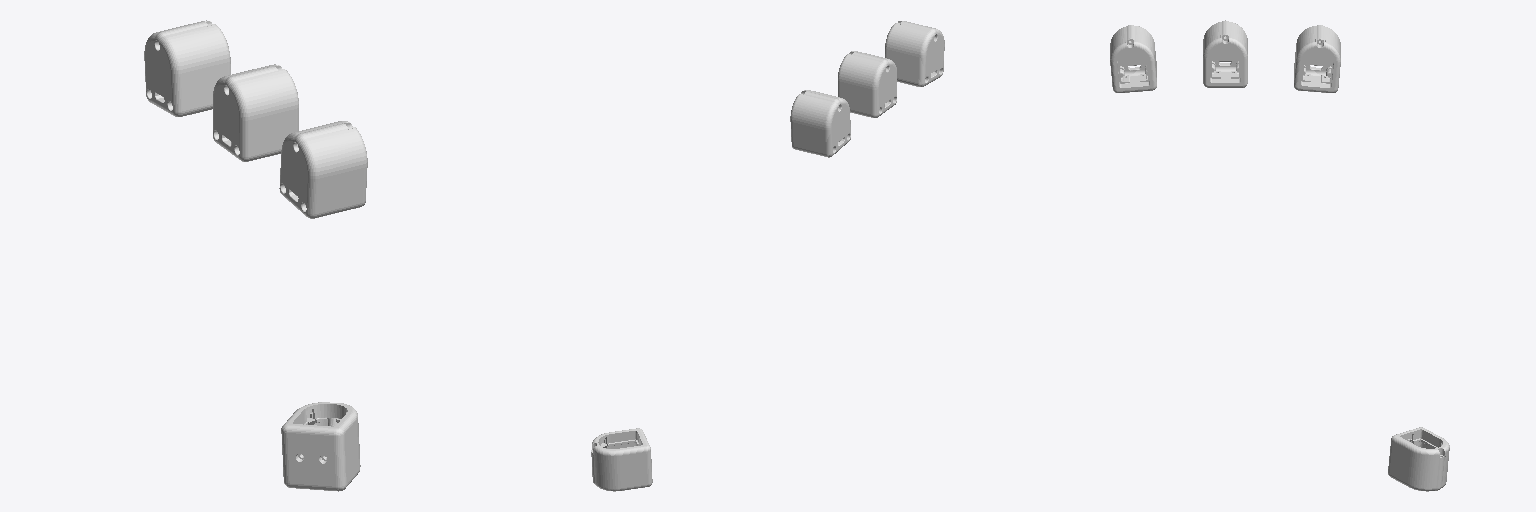
URDF robot description (allegro_hand_right):
<?xml version="1.0" ?>
<!-- =================================================================================== -->
<!-- |    This document was autogenerated by xacro from allegro_hand_description_right.xacro | -->
<!-- |    EDITING THIS FILE BY HAND IS NOT RECOMMENDED                                 | -->
<!-- =================================================================================== -->
<robot name="allegro_hand_right" xmlns:xacro="http://www.ros.org/wiki/xacro">
  <!-- ======================== BASE PARAMS ========================= -->
  <!-- ======================== FINGER PARAMS ======================== -->
  <!-- full height from joint to tip. when used,
    the radius of the finger tip sphere will be subtracted
    and one fixed link will be added for the tip. -->
  <!-- ========================= THUMB PARAMS ========================= -->
  <!-- ========================= LIMITS ========================= -->
  <!-- ============================================================================= -->
  <!-- PALM -->
  <link name="palm_link">
    <visual>
      <geometry>
        <mesh filename="meshes/base_link.STL"/>
      </geometry>
      <origin rpy="0 0 0" xyz="0 0 0 "/>
      <material name="black">
        <color rgba="0.2 0.2 0.2 1"/>
      </material>
    </visual>
    <collision>
      <origin rpy="0 0 0" xyz="-0.009300 0 -0.0475"/>
      <geometry>
        <box size="0.0408 0.1130 0.095"/>
      </geometry>
    </collision>
    <inertial>
      <origin rpy="0 0 0" xyz="0 0 0.0475"/>
      <mass value="0.4154"/>
      <inertia ixx="1e-4" ixy="0.0" ixz="0.0" iyy="1e-4" iyz="0.0" izz="1e-4"/>
    </inertial>
  </link>
  <!-- ============================================================================= -->
  <!-- FINGERS -->
  <!-- RIGHT HAND due to which finger is number 0 -->
  <!-- for LEFT HAND switch the sign of the **offset_origin_y** and **finger_angle_r** parameters-->
  <!-- [LINK 0, 4, 8] -->
  <link name="link_0.0">
    <visual>
      <geometry>
        <mesh filename="meshes/link_0.0.STL"/>
      </geometry>
      <material name="black"/>
    </visual>
    <collision>
      <geometry>
        <box size="0.0196 0.0275 0.0164"/>
      </geometry>
      <origin rpy="0 0 0" xyz="0 0 0.0082"/>
    </collision>
    <inertial>
      <mass value="0.0119"/>
      <origin rpy="0 0 0" xyz="0 0 0"/>
      <inertia ixx="1.01666658333e-06" ixy="0.0" ixz="0.0" iyy="6.47677333333e-07" iyz="0.0" izz="1.01666658333e-06"/>
    </inertial>
  </link>
  <joint name="joint_0.0" type="revolute">
    <axis xyz="0 0 1"/>
    <limit effort="15" lower="-0.47" upper="0.47" velocity="7"/>
    <parent link="palm_link"/>
    <child link="link_0.0"/>
    <origin rpy="-0.08726646255 0 0" xyz="0 0.0435 -0.001542"/>
    <dynamics damping="3" friction="10"/>
  </joint>
  <!-- [LINK 1, 5, 9] -->
  <link name="link_1.0">
    <visual>
      <geometry>
        <mesh filename="meshes/link_1.0.STL"/>
      </geometry>
      <material name="black"/>
    </visual>
    <collision>
      <geometry>
        <box size="0.0196 0.0275 0.054"/>
      </geometry>
      <origin rpy="0 0 0" xyz="0 0 0.027"/>
    </collision>
    <inertial>
      <mass value="0.065"/>
      <origin rpy="0 0 0" xyz="0 0 0"/>
      <inertia ixx="7.95654166667e-05" ixy="1.7199e-05" ixz="8.75875e-06" iyy="2.47088833333e-05" iyz="2.413125e-05" izz="7.95654166667e-05"/>
    </inertial>
  </link>
  <joint name="joint_1.0" type="revolute">
    <limit effort="15" lower="-0.196" upper="1.61" velocity="7"/>
    <axis xyz="0 1 0"/>
    <parent link="link_0.0"/>
    <child link="link_1.0"/>
    <origin xyz="0 0 0.0164"/>
    <dynamics damping="3" friction="5"/>
  </joint>
  <!-- [LINK 2, 6, 10]-->
  <link name="link_2.0">
    <visual>
      <geometry>
        <mesh filename="meshes/link_2.0.STL"/>
      </geometry>
      <material name="black"/>
    </visual>
    <collision>
      <geometry>
        <box size="0.0196 0.0275 0.0384"/>
      </geometry>
      <origin rpy="0 0 0" xyz="0 0 0.0192"/>
    </collision>
    <inertial>
      <mass value="0.0355"/>
      <origin rpy="0 0 0" xyz="0 0 0"/>
      <inertia ixx="2.63979183333e-05" ixy="6.67968e-06" ixz="4.783625e-06" iyy="1.34948516667e-05" iyz="9.372e-06" izz="2.63979183333e-05"/>
    </inertial>
  </link>
  <joint name="joint_2.0" type="revolute">
    <axis xyz="0 1 0"/>
    <limit effort="15" lower="-0.174" upper="1.709" velocity="7"/>
    <parent link="link_1.0"/>
    <child link="link_2.0"/>
    <origin xyz="0 0 0.054"/>
    <dynamics damping="8" friction="10"/>
  </joint>
  <!-- [LINK 3, 7, 11] -->
  <link name="link_3.0">
    <visual>
      <geometry>
        <mesh filename="meshes/link_3.0.STL"/>
      </geometry>
      <material name="black"/>
    </visual>
    <collision>
      <geometry>
        <box size="0.0196 0.0275 0.0267"/>
      </geometry>
      <origin rpy="0 0 0" xyz="0 0 0.01335"/>
    </collision>
    <inertial>
      <mass value="0.0096"/>
      <origin rpy="0 0 0" xyz="0 0 0"/>
      <inertia ixx="4.701248e-06" ixy="1.255968e-06" ixz="1.2936e-06" iyy="3.649312e-06" iyz="1.7622e-06" izz="4.701248e-06"/>
    </inertial>
  </link>
  <joint name="joint_3.0" type="revolute">
    <axis xyz="0 1 0"/>
    <limit effort="15" lower="-0.227" upper="1.618" velocity="7"/>
    <parent link="link_2.0"/>
    <child link="link_3.0"/>
    <origin xyz="0 0 0.0384"/>
    <dynamics damping="10" friction="12"/>
  </joint>
  <!-- [FINGER TIP] -->
  <link name="link_3.0_tip">
    <visual>
      <geometry>
        <mesh filename="meshes/digit_base.stl"/>
      </geometry>
      <material name="white">
        <color rgba=".9 .9 .9 1"/>
      </material>
    </visual>
    <collision>
      <geometry>
        <sphere radius="0.012"/>
      </geometry>
    </collision>
    <inertial>
      <mass value="0.0168"/>
      <origin rpy="0 0 0" xyz="0 0 0"/>
      <inertia ixx="9.68e-07" ixy="0" ixz="0" iyy="9.68e-07" iyz="0" izz="9.68e-07"/>
    </inertial>
  </link>
  <joint name="joint_3.0_tip" type="fixed">
    <parent link="link_3.0"/>
    <child link="link_3.0_tip"/>
    <origin rpy="0 0 0" xyz="0 0 0.0267"/>
  </joint>
  <!-- [LINK 0, 4, 8] -->
  <link name="link_4.0">
    <visual>
      <geometry>
        <mesh filename="meshes/link_0.0.STL"/>
      </geometry>
      <material name="black"/>
    </visual>
    <collision>
      <geometry>
        <box size="0.0196 0.0275 0.0164"/>
      </geometry>
      <origin rpy="0 0 0" xyz="0 0 0.0082"/>
    </collision>
    <inertial>
      <mass value="0.0119"/>
      <origin rpy="0 0 0" xyz="0 0 0"/>
      <inertia ixx="1.01666658333e-06" ixy="0.0" ixz="0.0" iyy="6.47677333333e-07" iyz="0.0" izz="1.01666658333e-06"/>
    </inertial>
  </link>
  <joint name="joint_4.0" type="revolute">
    <axis xyz="0 0 1"/>
    <limit effort="15" lower="-0.47" upper="0.47" velocity="7"/>
    <parent link="palm_link"/>
    <child link="link_4.0"/>
    <origin rpy="0.0 0 0" xyz="0 0 0.0007"/>
    <dynamics damping="3" friction="10"/>
  </joint>
  <!-- [LINK 1, 5, 9] -->
  <link name="link_5.0">
    <visual>
      <geometry>
        <mesh filename="meshes/link_1.0.STL"/>
      </geometry>
      <material name="black"/>
    </visual>
    <collision>
      <geometry>
        <box size="0.0196 0.0275 0.054"/>
      </geometry>
      <origin rpy="0 0 0" xyz="0 0 0.027"/>
    </collision>
    <inertial>
      <mass value="0.065"/>
      <origin rpy="0 0 0" xyz="0 0 0"/>
      <inertia ixx="7.95654166667e-05" ixy="1.7199e-05" ixz="8.75875e-06" iyy="2.47088833333e-05" iyz="2.413125e-05" izz="7.95654166667e-05"/>
    </inertial>
  </link>
  <joint name="joint_5.0" type="revolute">
    <limit effort="15" lower="-0.196" upper="1.61" velocity="7"/>
    <axis xyz="0 1 0"/>
    <parent link="link_4.0"/>
    <child link="link_5.0"/>
    <origin xyz="0 0 0.0164"/>
    <dynamics damping="3" friction="5"/>
  </joint>
  <!-- [LINK 2, 6, 10]-->
  <link name="link_6.0">
    <visual>
      <geometry>
        <mesh filename="meshes/link_2.0.STL"/>
      </geometry>
      <material name="black"/>
    </visual>
    <collision>
      <geometry>
        <box size="0.0196 0.0275 0.0384"/>
      </geometry>
      <origin rpy="0 0 0" xyz="0 0 0.0192"/>
    </collision>
    <inertial>
      <mass value="0.0355"/>
      <origin rpy="0 0 0" xyz="0 0 0"/>
      <inertia ixx="2.63979183333e-05" ixy="6.67968e-06" ixz="4.783625e-06" iyy="1.34948516667e-05" iyz="9.372e-06" izz="2.63979183333e-05"/>
    </inertial>
  </link>
  <joint name="joint_6.0" type="revolute">
    <axis xyz="0 1 0"/>
    <limit effort="15" lower="-0.174" upper="1.709" velocity="7"/>
    <parent link="link_5.0"/>
    <child link="link_6.0"/>
    <origin xyz="0 0 0.054"/>
    <dynamics damping="8" friction="10"/>
  </joint>
  <!-- [LINK 3, 7, 11] -->
  <link name="link_7.0">
    <visual>
      <geometry>
        <mesh filename="meshes/link_3.0.STL"/>
      </geometry>
      <material name="black"/>
    </visual>
    <collision>
      <geometry>
        <box size="0.0196 0.0275 0.0267"/>
      </geometry>
      <origin rpy="0 0 0" xyz="0 0 0.01335"/>
    </collision>
    <inertial>
      <mass value="0.0096"/>
      <origin rpy="0 0 0" xyz="0 0 0"/>
      <inertia ixx="4.701248e-06" ixy="1.255968e-06" ixz="1.2936e-06" iyy="3.649312e-06" iyz="1.7622e-06" izz="4.701248e-06"/>
    </inertial>
  </link>
  <joint name="joint_7.0" type="revolute">
    <axis xyz="0 1 0"/>
    <limit effort="15" lower="-0.227" upper="1.618" velocity="7"/>
    <parent link="link_6.0"/>
    <child link="link_7.0"/>
    <origin xyz="0 0 0.0384"/>
    <dynamics damping="10" friction="12"/>
  </joint>
  <!-- [FINGER TIP] -->
  <link name="link_7.0_tip">
    <visual>
      <geometry>
        <mesh filename="meshes/digit_base.stl"/>
      </geometry>
      <material name="white">
        <color rgba=".9 .9 .9 1"/>
      </material>
    </visual>
    <collision>
      <geometry>
        <sphere radius="0.012"/>
      </geometry>
    </collision>
    <inertial>
      <mass value="0.0168"/>
      <origin rpy="0 0 0" xyz="0 0 0"/>
      <inertia ixx="9.68e-07" ixy="0" ixz="0" iyy="9.68e-07" iyz="0" izz="9.68e-07"/>
    </inertial>
  </link>
  <joint name="joint_7.0_tip" type="fixed">
    <parent link="link_7.0"/>
    <child link="link_7.0_tip"/>
    <origin rpy="0 0 0" xyz="0 0 0.0267"/>
  </joint>
  <!-- [LINK 0, 4, 8] -->
  <link name="link_8.0">
    <visual>
      <geometry>
        <mesh filename="meshes/link_0.0.STL"/>
      </geometry>
      <material name="black"/>
    </visual>
    <collision>
      <geometry>
        <box size="0.0196 0.0275 0.0164"/>
      </geometry>
      <origin rpy="0 0 0" xyz="0 0 0.0082"/>
    </collision>
    <inertial>
      <mass value="0.0119"/>
      <origin rpy="0 0 0" xyz="0 0 0"/>
      <inertia ixx="1.01666658333e-06" ixy="0.0" ixz="0.0" iyy="6.47677333333e-07" iyz="0.0" izz="1.01666658333e-06"/>
    </inertial>
  </link>
  <joint name="joint_8.0" type="revolute">
    <axis xyz="0 0 1"/>
    <limit effort="15" lower="-0.47" upper="0.47" velocity="7"/>
    <parent link="palm_link"/>
    <child link="link_8.0"/>
    <origin rpy="0.08726646255 0 0" xyz="0 -0.0435 -0.001542"/>
    <dynamics damping="3" friction="10"/>
  </joint>
  <!-- [LINK 1, 5, 9] -->
  <link name="link_9.0">
    <visual>
      <geometry>
        <mesh filename="meshes/link_1.0.STL"/>
      </geometry>
      <material name="black"/>
    </visual>
    <collision>
      <geometry>
        <box size="0.0196 0.0275 0.054"/>
      </geometry>
      <origin rpy="0 0 0" xyz="0 0 0.027"/>
    </collision>
    <inertial>
      <mass value="0.065"/>
      <origin rpy="0 0 0" xyz="0 0 0"/>
      <inertia ixx="7.95654166667e-05" ixy="1.7199e-05" ixz="8.75875e-06" iyy="2.47088833333e-05" iyz="2.413125e-05" izz="7.95654166667e-05"/>
    </inertial>
  </link>
  <joint name="joint_9.0" type="revolute">
    <limit effort="15" lower="-0.196" upper="1.61" velocity="7"/>
    <axis xyz="0 1 0"/>
    <parent link="link_8.0"/>
    <child link="link_9.0"/>
    <origin xyz="0 0 0.0164"/>
    <dynamics damping="3" friction="5"/>
  </joint>
  <!-- [LINK 2, 6, 10]-->
  <link name="link_10.0">
    <visual>
      <geometry>
        <mesh filename="meshes/link_2.0.STL"/>
      </geometry>
      <material name="black"/>
    </visual>
    <collision>
      <geometry>
        <box size="0.0196 0.0275 0.0384"/>
      </geometry>
      <origin rpy="0 0 0" xyz="0 0 0.0192"/>
    </collision>
    <inertial>
      <mass value="0.0355"/>
      <origin rpy="0 0 0" xyz="0 0 0"/>
      <inertia ixx="2.63979183333e-05" ixy="6.67968e-06" ixz="4.783625e-06" iyy="1.34948516667e-05" iyz="9.372e-06" izz="2.63979183333e-05"/>
    </inertial>
  </link>
  <joint name="joint_10.0" type="revolute">
    <axis xyz="0 1 0"/>
    <limit effort="15" lower="-0.174" upper="1.709" velocity="7"/>
    <parent link="link_9.0"/>
    <child link="link_10.0"/>
    <origin xyz="0 0 0.054"/>
    <dynamics damping="8" friction="10"/>
  </joint>
  <!-- [LINK 3, 7, 11] -->
  <link name="link_11.0">
    <visual>
      <geometry>
        <mesh filename="meshes/link_3.0.STL"/>
      </geometry>
      <material name="black"/>
    </visual>
    <collision>
      <geometry>
        <box size="0.0196 0.0275 0.0267"/>
      </geometry>
      <origin rpy="0 0 0" xyz="0 0 0.01335"/>
    </collision>
    <inertial>
      <mass value="0.0096"/>
      <origin rpy="0 0 0" xyz="0 0 0"/>
      <inertia ixx="4.701248e-06" ixy="1.255968e-06" ixz="1.2936e-06" iyy="3.649312e-06" iyz="1.7622e-06" izz="4.701248e-06"/>
    </inertial>
  </link>
  <joint name="joint_11.0" type="revolute">
    <axis xyz="0 1 0"/>
    <limit effort="15" lower="-0.227" upper="1.618" velocity="7"/>
    <parent link="link_10.0"/>
    <child link="link_11.0"/>
    <origin xyz="0 0 0.0384"/>
    <dynamics damping="10" friction="12"/>
  </joint>
  <!-- [FINGER TIP] -->
  <link name="link_11.0_tip">
    <visual>
      <geometry>
        <mesh filename="meshes/digit_base.stl"/>
      </geometry>
      <material name="white">
        <color rgba=".9 .9 .9 1"/>
      </material>
    </visual>
    <collision>
      <geometry>
        <sphere radius="0.012"/>
      </geometry>
    </collision>
    <inertial>
      <mass value="0.0168"/>
      <origin rpy="0 0 0" xyz="0 0 0"/>
      <inertia ixx="9.68e-07" ixy="0" ixz="0" iyy="9.68e-07" iyz="0" izz="9.68e-07"/>
    </inertial>
  </link>
  <joint name="joint_11.0_tip" type="fixed">
    <parent link="link_11.0"/>
    <child link="link_11.0_tip"/>
    <origin rpy="0 0 0" xyz="0 0 0.0267"/>
  </joint>
  <!-- THUMB -->
  <!-- [LINK 12] -->
  <link name="link_12.0">
    <visual>
      <geometry>
        <mesh filename="meshes/link_12.0_right.STL"/>
      </geometry>
      <material name="black">
        <color rgba=".2 .2 .2 1"/>
      </material>
      <origin rpy="0 0 0" xyz="0 0 0"/>
      <!-- <origin rpy="3.1415926518 0 0" xyz="0 0 0"/> -->
    </visual>
    <collision>
      <geometry>
        <box size="0.0358 0.034 0.0455"/>
      </geometry>
      <origin rpy="0 0 0" xyz="-0.0179 0.009 0.0145"/>
    </collision>
    <inertial>
      <mass value="0.0176"/>
      <origin rpy="0 0 0" xyz="0 0 0"/>
      <inertia ixx="1.89273333333e-5" ixy="7.16716e-06" ixz="5.35568e-06" iyy="1.43008213333e-05" iyz="6.8068e-06" izz="1.89273333333e-05"/>
    </inertial>
  </link>
  <joint name="joint_12.0" type="revolute">
    <axis xyz="-1 0 0"/>
    <limit effort="15" lower="0.263" upper="1.396" velocity="7"/>
    <parent link="palm_link"/>
    <child link="link_12.0"/>
    <origin rpy="0 -1.65806278845 -1.5707963259" xyz="-0.0182 0.019333 -0.045987"/>
    <dynamics damping="3" friction="10"/>
  </joint>
  <!-- [LINK 13] -->
  <link name="link_13.0">
    <visual>
      <geometry>
        <mesh filename="meshes/link_13.0.STL"/>
      </geometry>
      <material name="black">
        <color rgba=".2 .2 .2 1"/>
      </material>
    </visual>
    <collision>
      <geometry>
        <box size="0.0196 0.0275 0.0177"/>
      </geometry>
      <origin rpy="0 0 0" xyz="0 0 0.00885"/>
    </collision>
    <inertial>
      <mass value="0.0119"/>
      <origin rpy="0 0 0" xyz="0 0 0"/>
      <inertia ixx="4.24250866667e-06" ixy="1.032087e-06" ixz="1.603525e-06" iyy="4.52362633333e-06" iyz="1.44808125e-06" izz="4.24250866667e-06"/>
    </inertial>
  </link>
  <joint name="joint_13.0" type="revolute">
    <axis xyz="0 0 1"/>
    <limit effort="15" lower="-0.105" upper="1.163" velocity="7"/>
    <parent link="link_12.0"/>
    <child link="link_13.0"/>
    <origin xyz="-0.027 0.005 0.0399"/>
    <dynamics damping="3" friction="5"/>
  </joint>
  <!-- [LINK 14] -->
  <link name="link_14.0">
    <visual>
      <geometry>
        <mesh filename="meshes/link_14.0.STL"/>
      </geometry>
      <material name="black">
                </material>
    </visual>
    <collision>
      <geometry>
        <box size="0.0196 0.0275 0.0514"/>
      </geometry>
      <origin rpy="0 0 0" xyz="0 0 0.0257"/>
    </collision>
    <inertial>
      <mass value="0.038"/>
      <origin rpy="0 0 0" xyz="0 0 0"/>
      <inertia ixx="4.30439933333e-05" ixy="9.57068e-06" ixz="5.1205e-06" iyy="1.44451933333e-05" iyz="1.342825e-05" izz="4.30439933333e-05"/>
    </inertial>
  </link>
  <joint name="joint_14.0" type="revolute">
    <axis xyz="0 1 0"/>
    <limit effort="15" lower="-0.189" upper="1.644" velocity="7"/>
    <parent link="link_13.0"/>
    <child link="link_14.0"/>
    <origin xyz="0 0 0.0177"/>
    <dynamics damping="3" friction="10"/>
  </joint>
  <!-- [LINK 15] -->
  <link name="link_15.0">
    <visual>
      <geometry>
        <mesh filename="meshes/link_15.0.STL"/>
      </geometry>
      <material name="black">
                </material>
    </visual>
    <collision>
      <geometry>
        <box size="0.0196 0.0275 0.0423"/>
      </geometry>
      <origin rpy="0 0 0" xyz="0 0 0.02115"/>
    </collision>
    <inertial>
      <mass value="0.0388"/>
      <origin rpy="0 0 0" xyz="0 0 0"/>
      <inertia ixx="3.29223173333e-05" ixy="8.042076e-06" ixz="5.2283e-06" iyy="1.47493026667e-5" iyz="1.1283525e-5" izz="3.29223173333e-05"/>
    </inertial>
  </link>
  <joint name="joint_15.0" type="revolute">
    <axis xyz="0 1 0"/>
    <limit effort="15" lower="-0.162" upper="1.719" velocity="7"/>
    <parent link="link_14.0"/>
    <child link="link_15.0"/>
    <origin xyz="0 0 0.0514"/>
    <dynamics damping="3" friction="12"/>
  </joint>
  <!-- [FINGER TIP] -->
  <link name="link_15.0_tip">
    <visual>
      <geometry>
        <mesh filename="meshes/digit_base.stl"/>
      </geometry>
      <material name="white">
        <color rgba=".9 .9 .9 1"/>
      </material>
    </visual>
    <collision>
      <geometry>
        <sphere radius="0.012"/>
      </geometry>
      <origin rpy="0 0 0" xyz="0 0 0"/>
    </collision>
    <inertial>
      <mass value="0.0168"/>
      <origin rpy="0 0 0" xyz="0 0 0"/>
      <inertia ixx="9.68e-07" ixy="0" ixz="0" iyy="9.68e-07" iyz="0" izz="9.68e-07"/>
    </inertial>
  </link>
  <joint name="joint_15.0_tip" type="fixed">
    <parent link="link_15.0"/>
    <child link="link_15.0_tip"/>
    <origin rpy="0 0 0" xyz="0 0 0.0423"/>
  </joint>
  <!-- ============================================================================= -->
  <!-- THUMB MACRO -->
  <!-- END THUMB MACRO -->
  <!-- THREE FINGER MACRO -->
  <!-- [[END]] THREE FINGER MACRO -->
</robot>

--- Render facts (derived) ---
3 views of the same robot in one strip: view 1: azimuth 30°, elevation 25°; view 2: azimuth 150°, elevation 25°; view 3: azimuth 270°, elevation 25° (orthographic).
Robot: allegro_hand_right — 21 links, 20 joints (16 revolute, 4 fixed); root link palm_link; default pose: all joints at 0 but 1 set to mid-range because 0 is outside their limits (joint_12.0 = 0.8295).
Visible links, largest first — view 1: link_11.0_tip, link_7.0_tip, link_3.0_tip, link_15.0_tip; view 2: link_3.0_tip, link_15.0_tip, link_7.0_tip, link_11.0_tip; view 3: link_15.0_tip, link_11.0_tip, link_3.0_tip, link_7.0_tip.
Link boxes in pixels (bbox=[...]): link_11.0_tip: bbox=[279, 121, 367, 218]; link_7.0_tip: bbox=[213, 64, 298, 161]; link_3.0_tip: bbox=[144, 20, 230, 116]; link_15.0_tip: bbox=[281, 402, 360, 491]; link_3.0_tip: bbox=[790, 90, 850, 157]; link_15.0_tip: bbox=[591, 428, 652, 491]; link_7.0_tip: bbox=[838, 51, 896, 117]; link_11.0_tip: bbox=[885, 21, 944, 86]; link_15.0_tip: bbox=[1388, 427, 1449, 491]; link_11.0_tip: bbox=[1110, 25, 1156, 92]; link_3.0_tip: bbox=[1294, 25, 1340, 92]; link_7.0_tip: bbox=[1203, 20, 1247, 87].
Size in the robot's own frame: 0.1304 by 0.2047 by 0.2554 metres.
4 mesh visuals loaded from 10 distinct referenced files (1 binary STL); not drawn: 17 (reference not matched to a file when rendering).